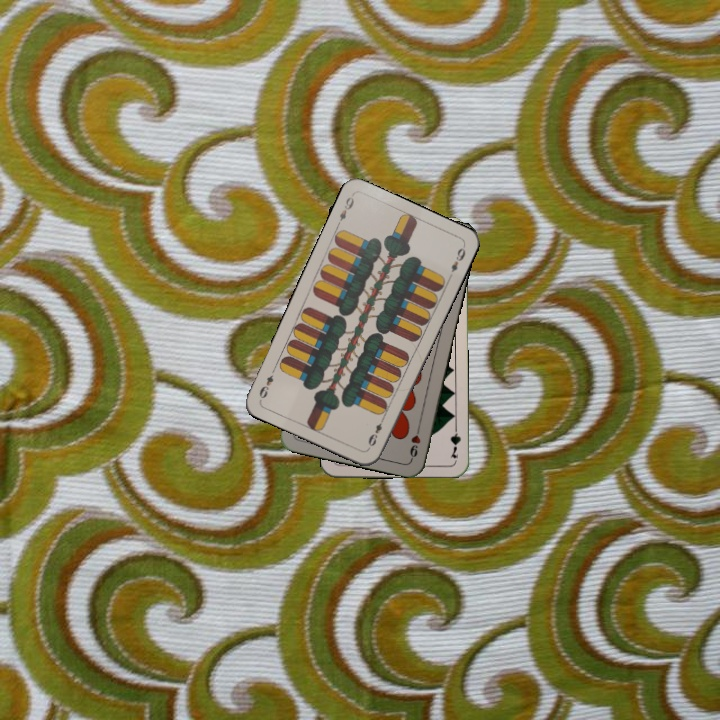E9: (333, 191, 357, 229), (364, 413, 387, 451)
G7: (446, 421, 463, 460)
H9: (406, 421, 423, 462)
